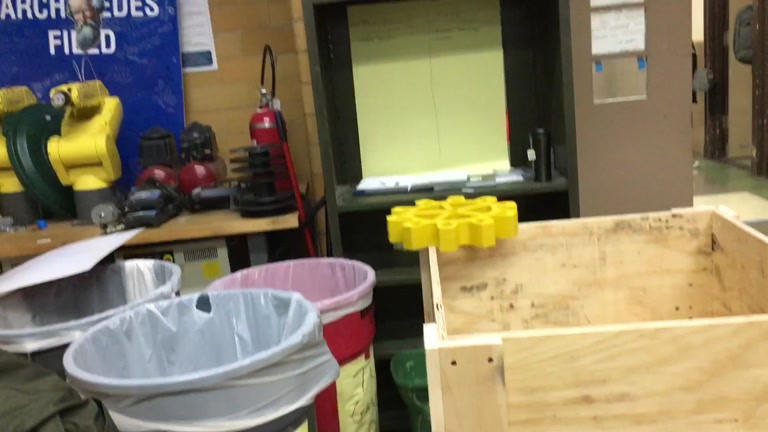gear: (386, 193, 518, 254)
